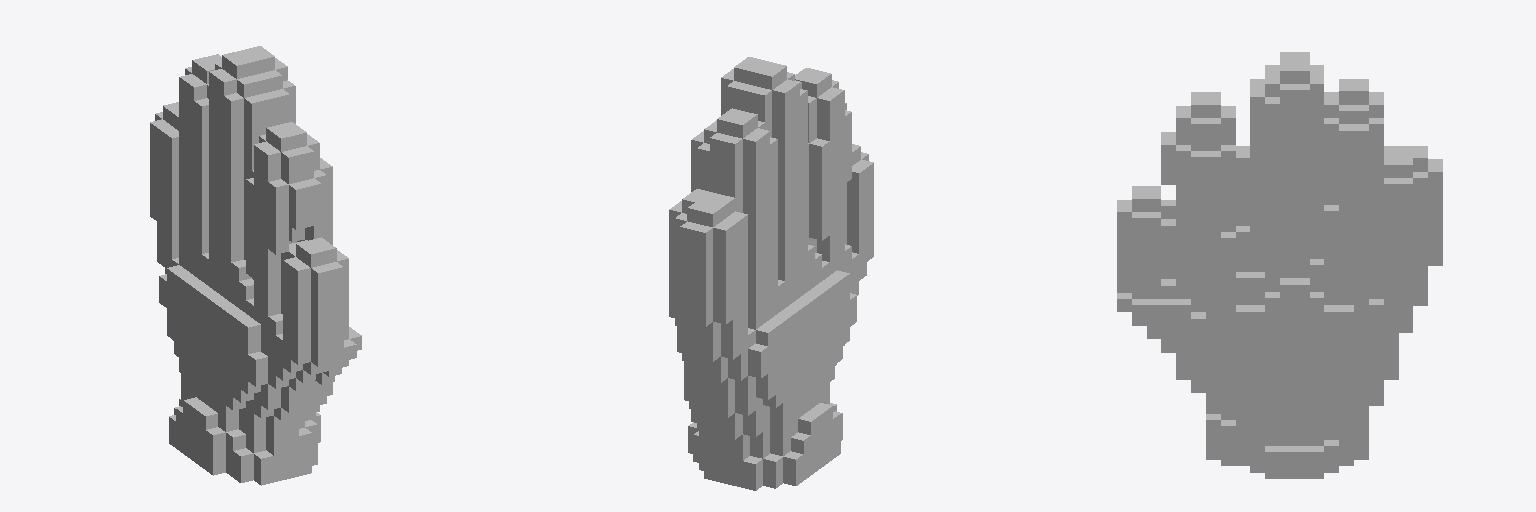
Rendered from Leaf Gloves.obj.
The picture shows the model from 3 angles: view 1: azimuth 30°, elevation 25°; view 2: azimuth 150°, elevation 25°; view 3: azimuth 270°, elevation 25°; orthographic projection.
Size of the model in its own units: 9 by 29 by 22.